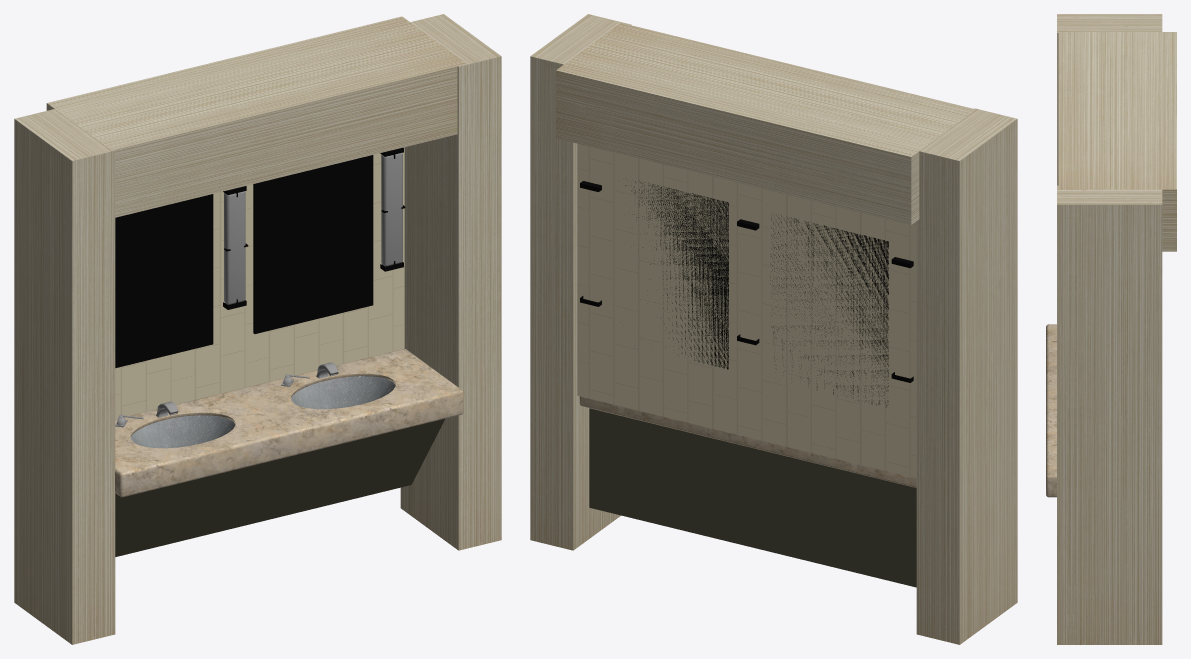
The model's file is Wc set.FBX.
The picture shows the model from 3 angles, left to right: view 1: azimuth 30°, elevation 25°; view 2: azimuth 150°, elevation 25°; view 3: azimuth 270°, elevation 25°; orthographic projection. The views are drawn at different scales.
Parts seen in each view (by area): view 1: Box007, Box008, Box009, ChamferBox003, Plane002, Box001, Box012, Box011, Object002, Object001, ChamferBox007, ChamferBox008; view 2: Plane002, Box007, Box008, Box001, Box009, Box012, Box011, ChamferBox003; view 3: Box009, Box008, Box007, ChamferBox003.
Boxes of the visible parts, bbox=[...] form: Box007: bbox=[14, 109, 115, 644]; Box008: bbox=[46, 16, 466, 217]; Box009: bbox=[400, 14, 501, 550]; ChamferBox003: bbox=[115, 349, 463, 497]; Plane002: bbox=[115, 147, 404, 419]; Box001: bbox=[115, 418, 444, 556]; Box012: bbox=[253, 155, 373, 333]; Box011: bbox=[115, 194, 213, 368]; Object002: bbox=[130, 415, 235, 448]; Object001: bbox=[291, 376, 395, 409]; ChamferBox007: bbox=[224, 191, 245, 304]; ChamferBox008: bbox=[381, 152, 402, 266]; Plane002: bbox=[577, 143, 916, 478]; Box007: bbox=[916, 108, 1017, 644]; Box008: bbox=[556, 23, 975, 224]; Box001: bbox=[589, 408, 916, 587]; Box009: bbox=[530, 14, 631, 550]; Box012: bbox=[625, 181, 728, 369]; Box011: bbox=[770, 215, 888, 407]; ChamferBox003: bbox=[579, 396, 916, 487]; Box009: bbox=[1057, 185, 1162, 644]; Box008: bbox=[1058, 32, 1176, 251]; Box007: bbox=[1057, 14, 1162, 185]; ChamferBox003: bbox=[1046, 324, 1056, 497].
Bounding box in the file's own units: 2998 × 3227 × 870.
9 materials, 4 textured.
